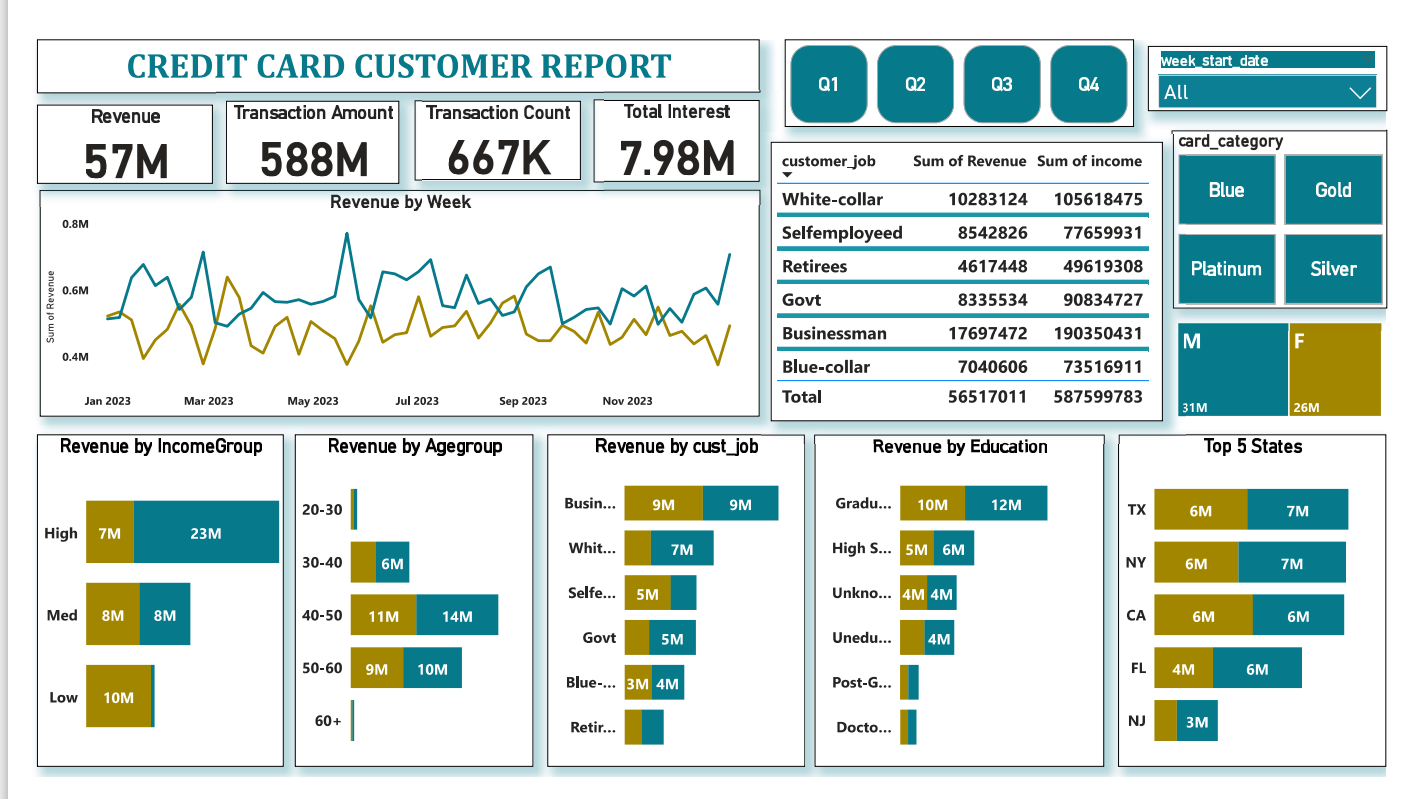

What the dashboard file says about the page in this screenshot:
{"tool":"powerbi","page":{"name":"customer report","canvas":[1352,720],"ordinal":2},"visuals":[{"type":"textbox","box":[9.8,0,621,66],"z":0},{"type":"lineChart","title":" Revenue by Week","fields":{"Y":["Sum(public credit_detail.Revenue)"],"Series":["public cust_detail.gender"],"Category":["public credit_detail.week_start_date.Variation.Date Hierarchy.Year","public credit_detail.week_start_date.Variation.Date Hierarchy.Month","public credit_detail.week_start_date.Variation.Date Hierarchy.Day"]},"box":[9.8,84.7,547.8,296],"z":1000},{"type":"treemap","fields":{"Group":["public cust_detail.gender"],"Values":["Sum(public credit_detail.Revenue)"]},"box":[1035.4,0,300.9,94.6],"z":2000},{"type":"barChart","title":" Revenue by IncomeGroup","fields":{"Category":["public cust_detail.IncomeGroup"],"Y":["Sum(public credit_detail.Revenue)"],"Series":["public cust_detail.gender"]},"box":[9.8,391.8,255.5,327.9],"z":3000},{"type":"barChart","title":"Revenue by Agegroup","fields":{"Y":["Sum(public credit_detail.Revenue)"],"Category":["public cust_detail.Agegroup"],"Series":["public cust_detail.gender"]},"box":[278.8,391.8,255.5,327.9],"z":4000},{"type":"barChart","title":"Revenue by cust_job","fields":{"Y":["Sum(public credit_detail.Revenue)"],"Category":["public cust_detail.customer_job"],"Series":["public cust_detail.gender"]},"box":[541.6,391.8,266.5,327.9],"z":5000},{"type":"barChart","title":"Revenue by Education","fields":{"Y":["Sum(public credit_detail.Revenue)"],"Category":["public cust_detail.education_level"],"Series":["public cust_detail.gender"]},"box":[819.2,391.8,277.6,327.9],"z":6000},{"type":"advancedSlicerVisual","fields":{"Values":["public credit_detail.qtr"]},"box":[640.5,0,375.3,94.1],"z":7000},{"type":"barChart","title":"Top 5 States","fields":{"Y":["Sum(public credit_detail.Revenue)"],"Series":["public cust_detail.gender"],"Category":["public cust_detail.state_cd"]},"box":[1105.7,391.4,245.7,328.6],"z":8000},{"type":"card","title":"Revenue","fields":{"Values":["Sum(public credit_detail.Revenue)"]},"box":[580.9,190.4,187.9,84.7],"z":9000},{"type":"card","title":"Total Interest ","fields":{"Values":["Sum(public credit_detail.interest_earned)"]},"box":[793.4,292.3,179.3,88.4],"z":10000},{"type":"card","title":"Transaction Count","fields":{"Values":["Sum(public credit_detail.total_trans_ct)"]},"box":[793.4,190.4,179.3,84.7],"z":11000},{"type":"card","title":"Transaction Amount","fields":{"Values":["Sum(public credit_detail.total_trans_amt)"]},"box":[583.4,283.7,185.5,88.4],"z":12000},{"type":"advancedSlicerVisual","fields":{"Values":["public credit_detail.card_category"]},"box":[571.2,95,401.2,82.5],"z":13000},{"type":"tableEx","fields":{"Values":["public credit_detail.card_category","Sum(public credit_detail.Revenue)","Sum(public cust_detail.income)"]},"box":[986.2,105,366.2,276.2],"z":14000}]}

Visuals, with their boxes on the page's 1352x720 design canvas (x1, y1, x2, y2). These are canvas units, not pixel positions in the 1406x799 screenshot, which may show the page scaled, cropped or inside an application window:
textbox: crop(10, 0, 631, 66)
" Revenue by Week" lineChart: crop(10, 85, 558, 381)
treemap - public cust_detail.gender x Sum(public credit_detail.Revenue): crop(1035, 0, 1336, 95)
" Revenue by IncomeGroup" barChart: crop(10, 392, 265, 720)
"Revenue by Agegroup" barChart: crop(279, 392, 534, 720)
"Revenue by cust_job" barChart: crop(542, 392, 808, 720)
"Revenue by Education" barChart: crop(819, 392, 1097, 720)
advancedSlicerVisual - public credit_detail.qtr: crop(640, 0, 1016, 94)
"Top 5 States" barChart: crop(1106, 391, 1351, 720)
"Revenue" card: crop(581, 190, 769, 275)
"Total Interest " card: crop(793, 292, 973, 381)
"Transaction Count" card: crop(793, 190, 973, 275)
"Transaction Amount" card: crop(583, 284, 769, 372)
advancedSlicerVisual - public credit_detail.card_category: crop(571, 95, 972, 178)
tableEx - public credit_detail.card_category x Sum(public credit_detail.Revenue): crop(986, 105, 1352, 381)
